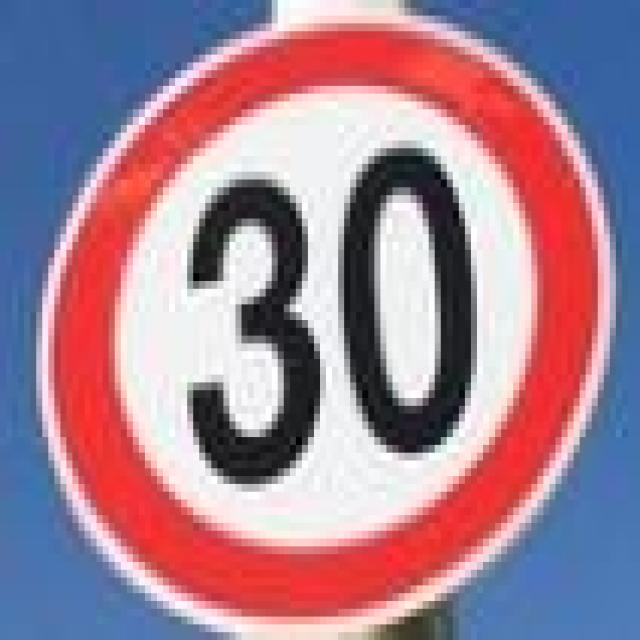traffic_sign: (24, 8, 592, 632)
